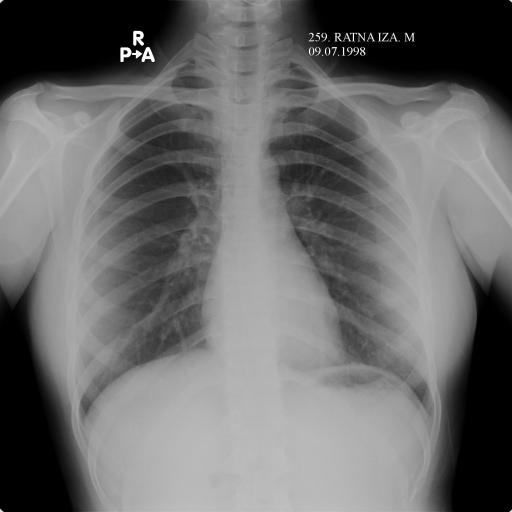normal: (59, 42, 443, 432)
